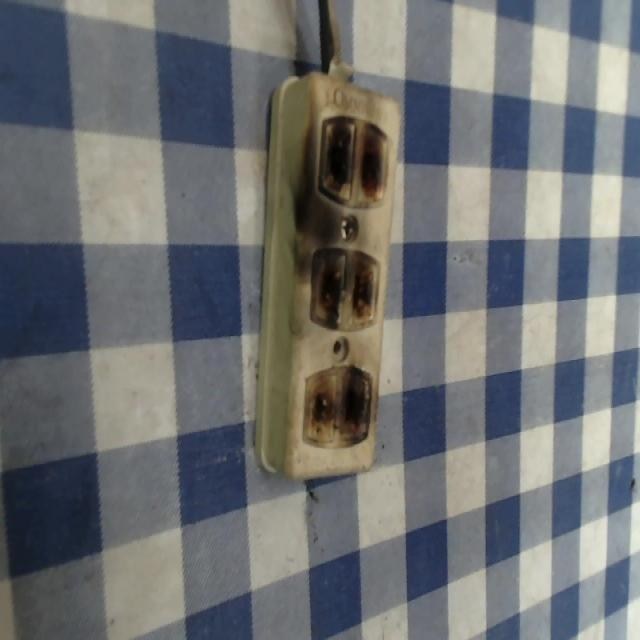-: (315, 114, 390, 205), (308, 240, 378, 333), (303, 360, 374, 447)
